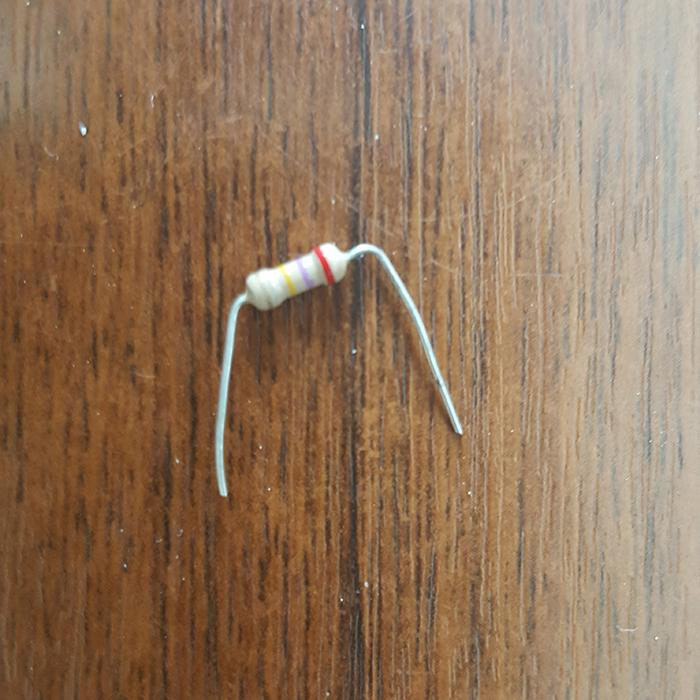resistor: (245, 241, 349, 310)
